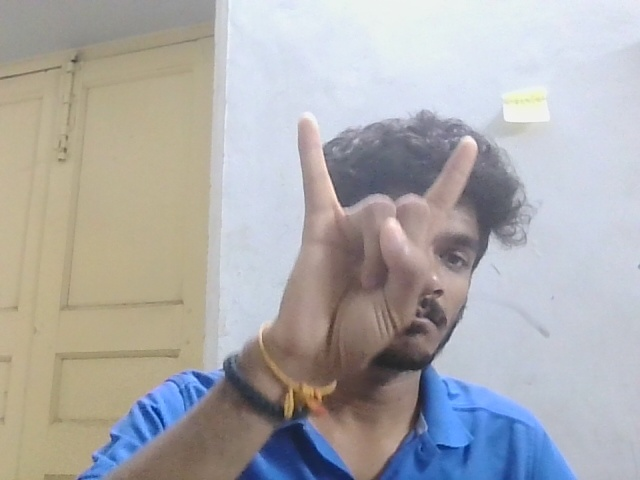Iloveyou: (254, 100, 486, 380)
